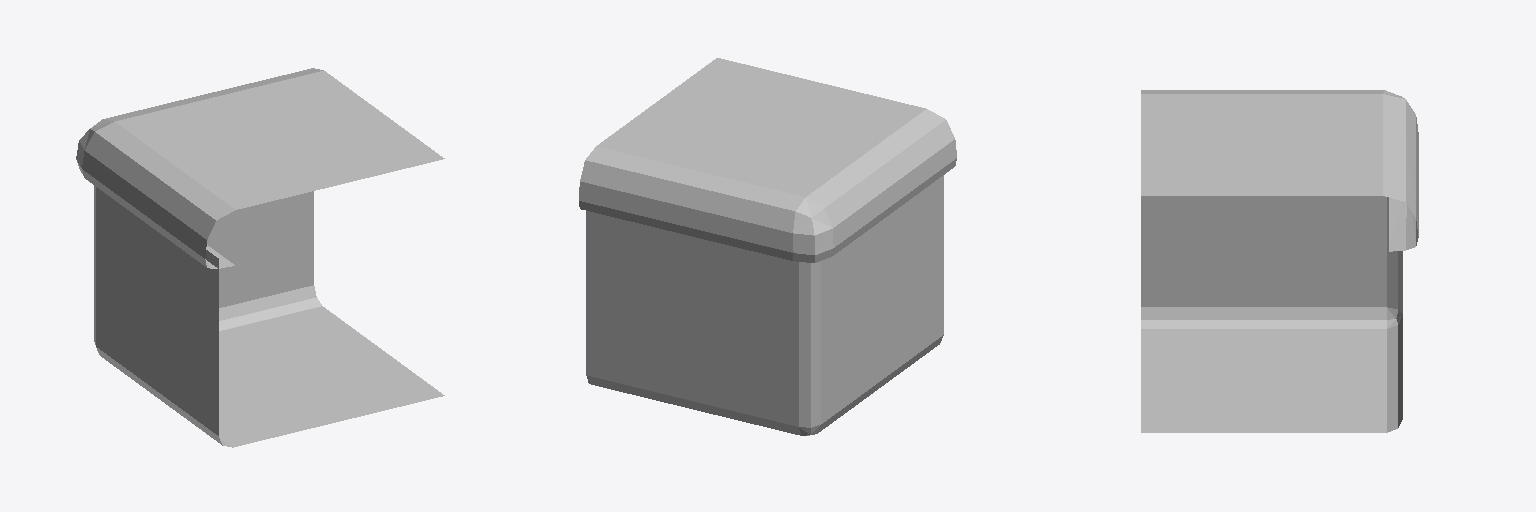
Rendered from cube_grass_corner_topLeft.obj.
3 views of the same model, side by side, from view 1: azimuth 30°, elevation 25°; view 2: azimuth 150°, elevation 25°; view 3: azimuth 270°, elevation 25° (orthographic).
Visible parts, largest first — view 1: cube_grass_corner.001; view 2: cube_grass_corner.001; view 3: cube_grass_corner.001.
Boxes of the visible parts, <box> form: cube_grass_corner.001: <box>76,68,444,447</box>; cube_grass_corner.001: <box>579,58,956,435</box>; cube_grass_corner.001: <box>1141,90,1418,432</box>.
Bounding box in the file's own units: 1.06 × 0.998 × 1.06.